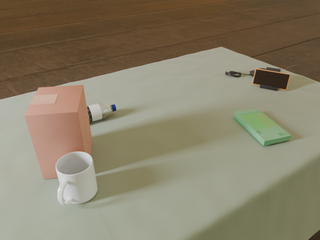book: (233, 109, 291, 146)
bottle: (87, 103, 116, 122)
box: (24, 85, 92, 179)
cup: (56, 152, 97, 206)
mouse: (248, 68, 266, 77)
phone: (252, 69, 290, 90)
